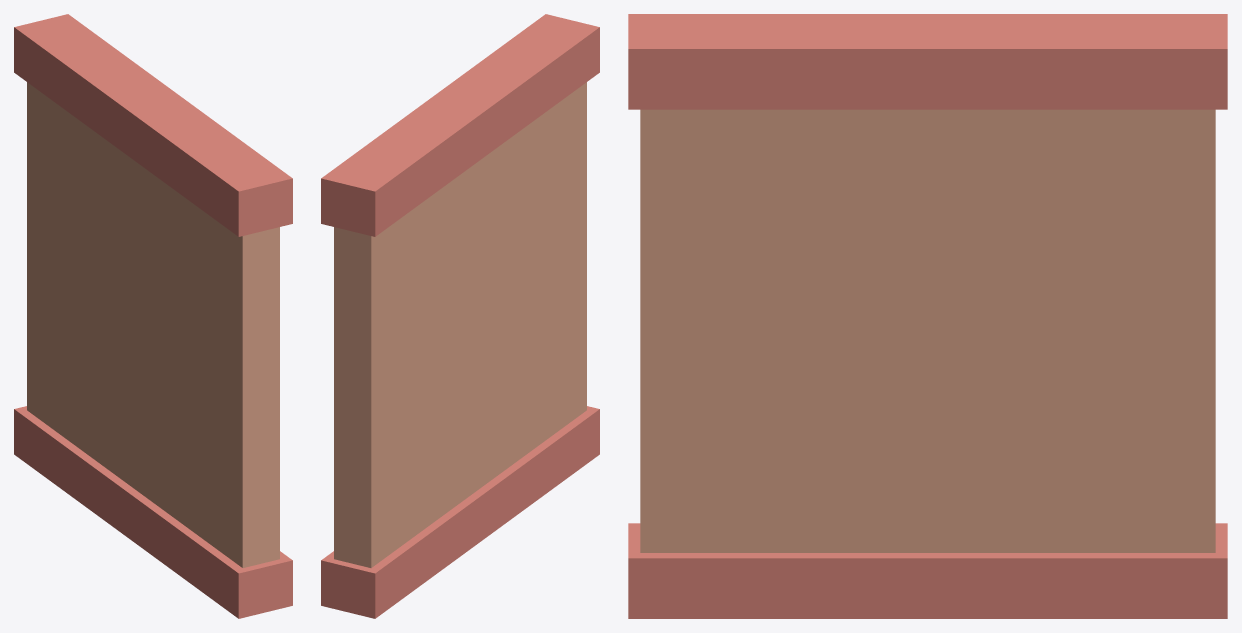
The model's file is wallclimb1.fbx.
3 views of the same model, side by side, from view 1: azimuth 30°, elevation 25°; view 2: azimuth 150°, elevation 25°; view 3: azimuth 270°, elevation 25° (orthographic). The views are drawn at different scales.
Visible parts, largest first — view 1: Cube, Cube.001, Cube.002; view 2: Cube, Cube.001, Cube.002; view 3: Cube, Cube.001, Cube.002.
Part boxes in pixels (x1=…): Cube: x1=27, y1=82, x2=279, y2=567; Cube.001: x1=14, y1=14, x2=292, y2=236; Cube.002: x1=14, y1=406, x2=292, y2=618; Cube: x1=334, y1=82, x2=586, y2=567; Cube.001: x1=321, y1=14, x2=599, y2=236; Cube.002: x1=321, y1=406, x2=599, y2=618; Cube: x1=640, y1=109, x2=1215, y2=552; Cube.001: x1=628, y1=14, x2=1227, y2=109; Cube.002: x1=628, y1=523, x2=1227, y2=618.
Size of the model in its own units: 28.9 by 218 by 208.
